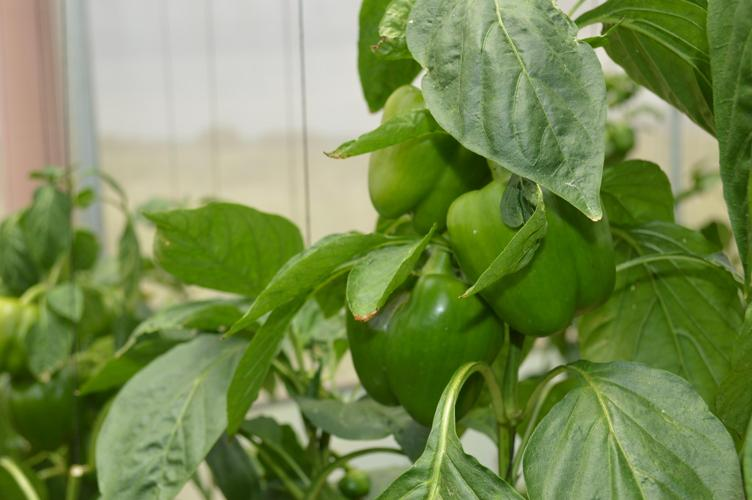BellPepper: (451, 181, 617, 332), (341, 280, 496, 426), (360, 87, 475, 234)
